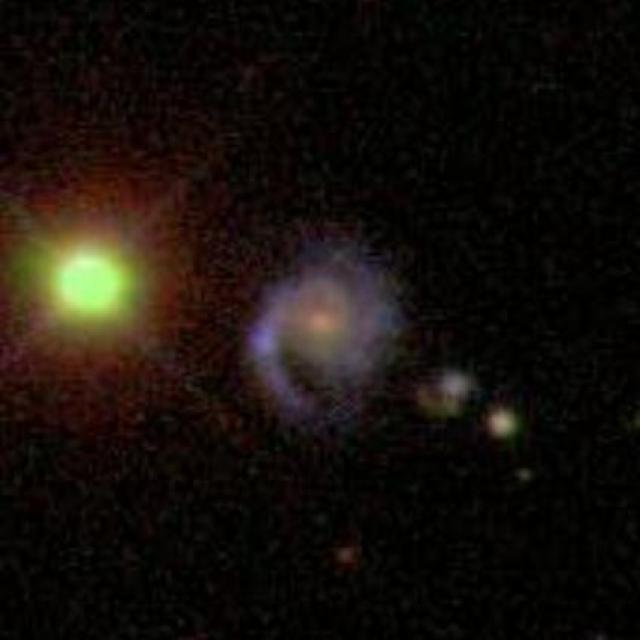galaxy: (244, 236, 405, 423), (418, 366, 475, 419), (483, 406, 524, 438), (336, 542, 355, 572), (518, 468, 536, 482)
star: (1, 105, 274, 469)
